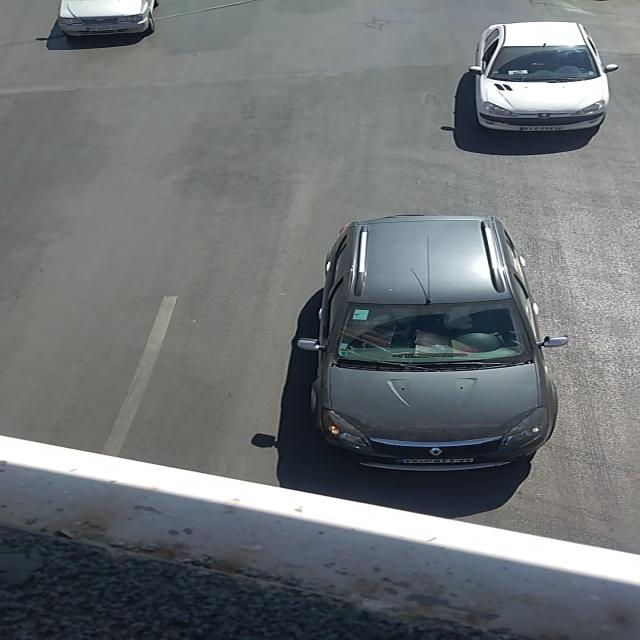car: (296, 215, 569, 472), (473, 23, 617, 137), (54, 0, 158, 38)
